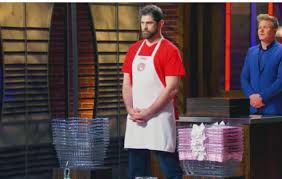Caution: (121, 3, 281, 124)
